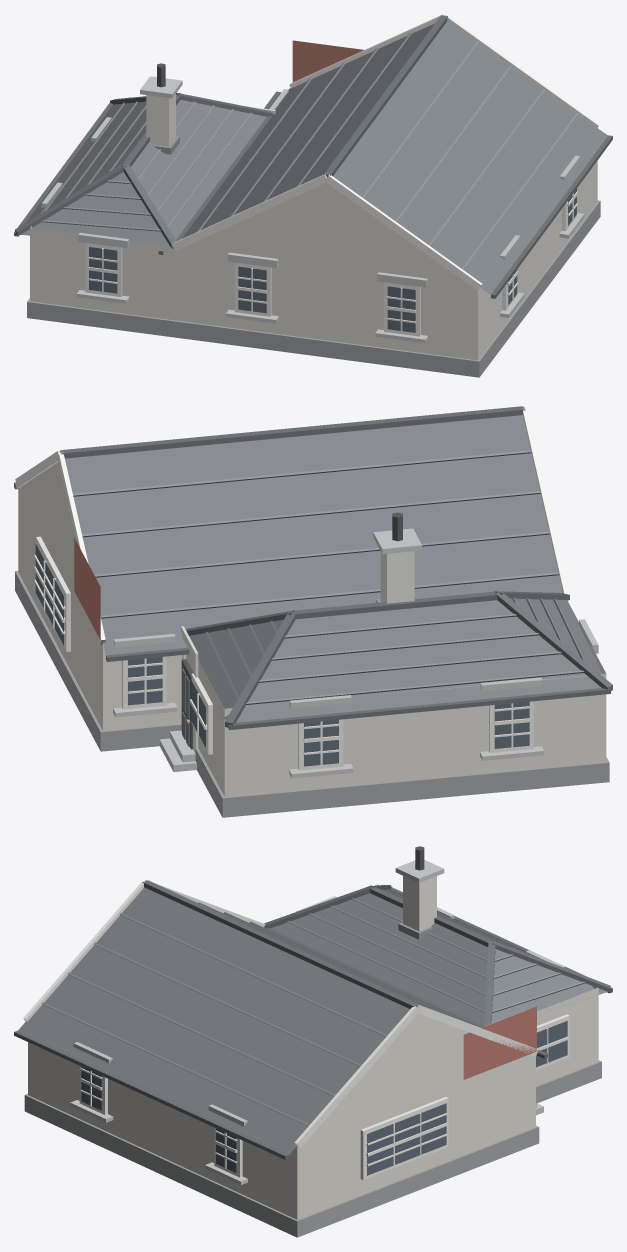
The picture shows the model from 3 angles, top to bottom: view 1: azimuth 30°, elevation 25°; view 2: azimuth 150°, elevation 25°; view 3: azimuth 270°, elevation 25°; orthographic projection. The views are drawn at different scales.
Visible parts, largest first — view 1: slate, harl_grey, plinth, frame, slate_dk, slate_lt, stone_band, timber_red, chim_render, window_glass_003, window_glass_004, window_glass_005; view 2: slate, harl_grey, slate_dk, plinth, slate_lt, frame, stone_band, chim_render, timber_red, window_glass_007, window_glass_008, window_glass_006 (+1 smaller); view 3: slate, harl_grey, plinth, slate_dk, frame, slate_lt, timber_red, window_glass_001, stone_band, chim_render, window_glass_002, window_glass_010 (+1 smaller).
Part boxes in pixels (<box>): slate: <box>21,21,607,294</box>; harl_grey: <box>30,97,597,360</box>; plinth: <box>27,200,600,377</box>; frame: <box>85,14,599,336</box>; slate_dk: <box>14,15,612,298</box>; slate_lt: <box>41,32,577,269</box>; stone_band: <box>41,76,584,343</box>; timber_red: <box>292,40,363,82</box>; chim_render: <box>146,94,175,146</box>; window_glass_003: <box>89,247,117,293</box>; window_glass_004: <box>238,266,266,313</box>; window_glass_005: <box>387,286,415,332</box>; slate: <box>65,415,601,722</box>; harl_grey: <box>18,462,606,796</box>; slate_dk: <box>14,406,612,730</box>; plinth: <box>15,571,609,817</box>; slate_lt: <box>73,450,585,704</box>; frame: <box>15,406,569,770</box>; stone_band: <box>113,528,598,778</box>; chim_render: <box>380,551,414,603</box>; timber_red: <box>74,538,100,639</box>; window_glass_007: <box>494,701,529,748</box>; window_glass_008: <box>128,657,162,705</box>; window_glass_006: <box>304,720,338,766</box>; slate: <box>18,887,607,1154</box>; harl_grey: <box>28,884,598,1219</box>; plinth: <box>24,1060,601,1237</box>; slate_dk: <box>14,880,612,1159</box>; frame: <box>23,880,569,1180</box>; slate_lt: <box>42,889,584,1126</box>; timber_red: <box>463,1006,536,1079</box>; window_glass_001: <box>367,1103,446,1175</box>; stone_band: <box>70,860,564,1184</box>; chim_render: <box>403,876,436,931</box>; window_glass_002: <box>536,1021,567,1067</box>; window_glass_010: <box>216,1128,236,1172</box>.
Size of the model in its own units: 16.01 by 5.57 by 14.97.
